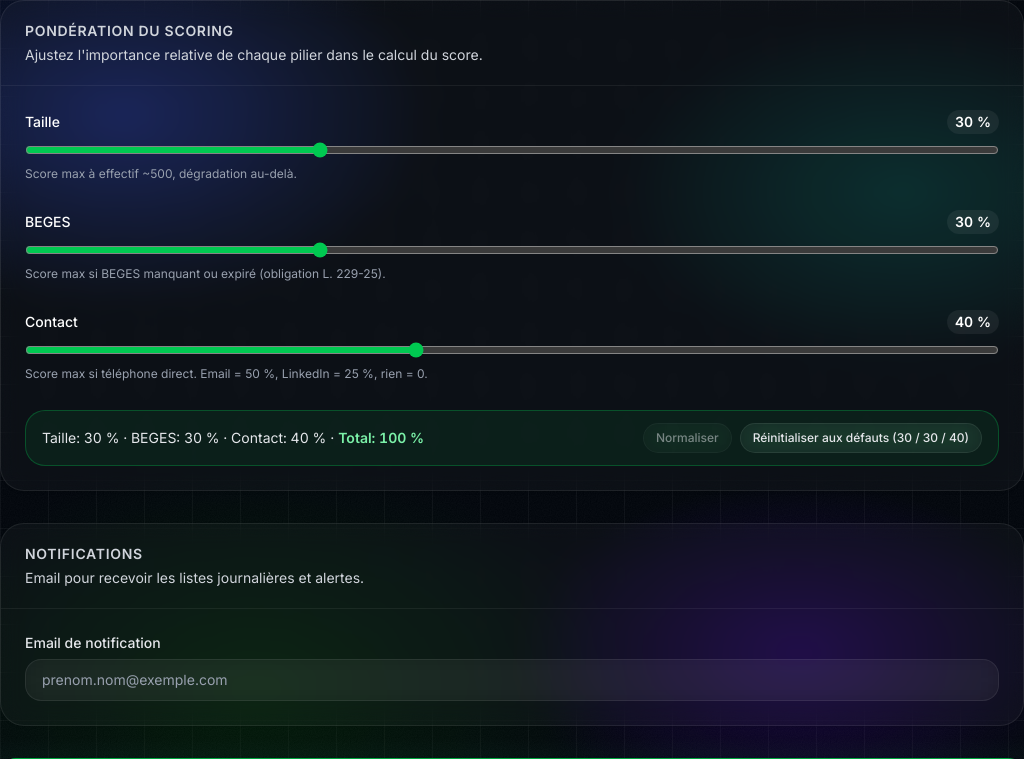
Test case: SettingsForm — pondération du scoring › le bouton "Réinitialiser" remet 30 / 30 / 40
Set the slider named "Pondération Taille" to "10" at (129, 150), box 25,142 -> 999,158
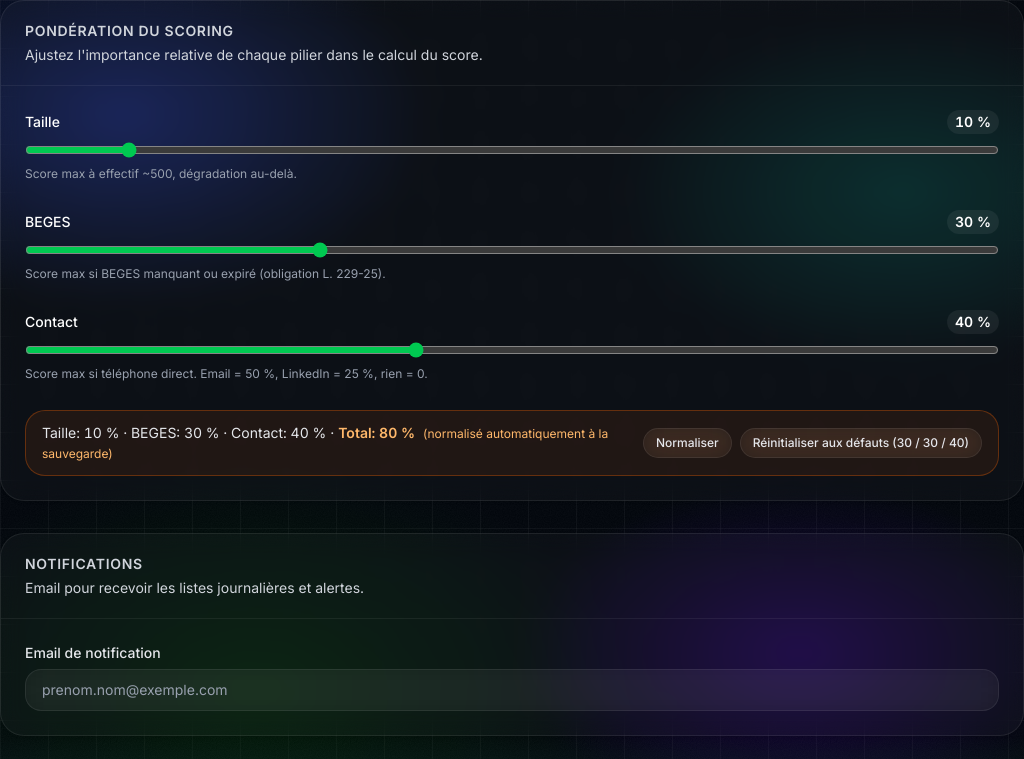
Set the slider named "Pondération BEGES" to "10" at (129, 250), box 25,242 -> 999,258
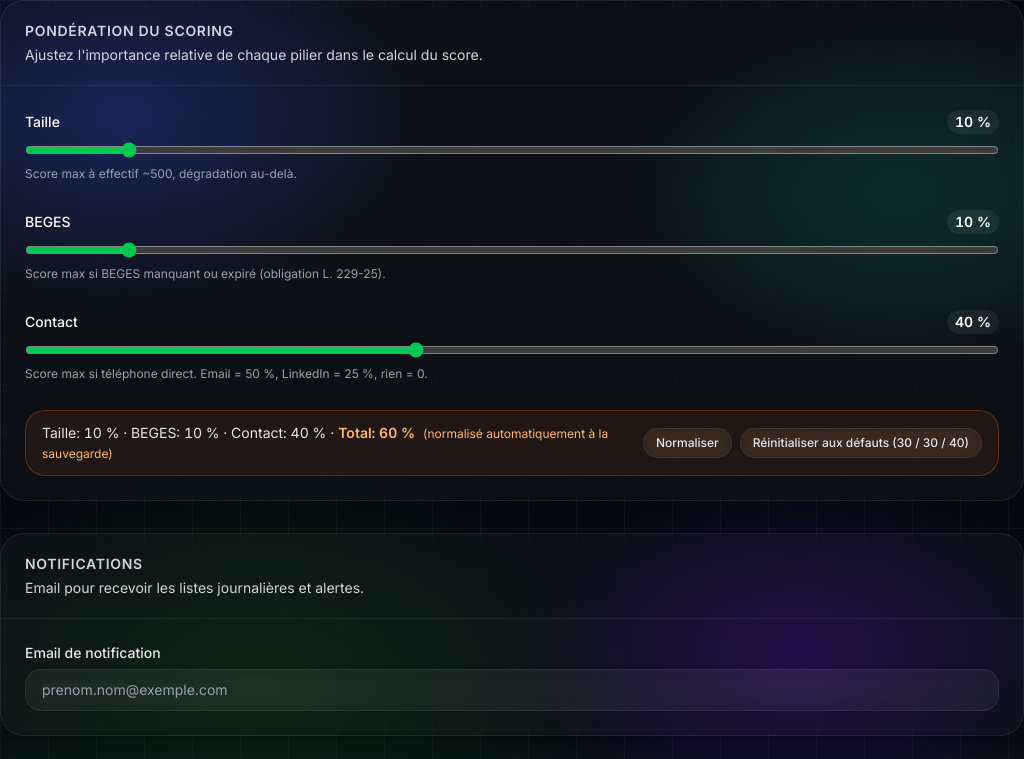
Set the slider named "Pondération Contact" to "10" at (129, 350), box 25,342 -> 999,358
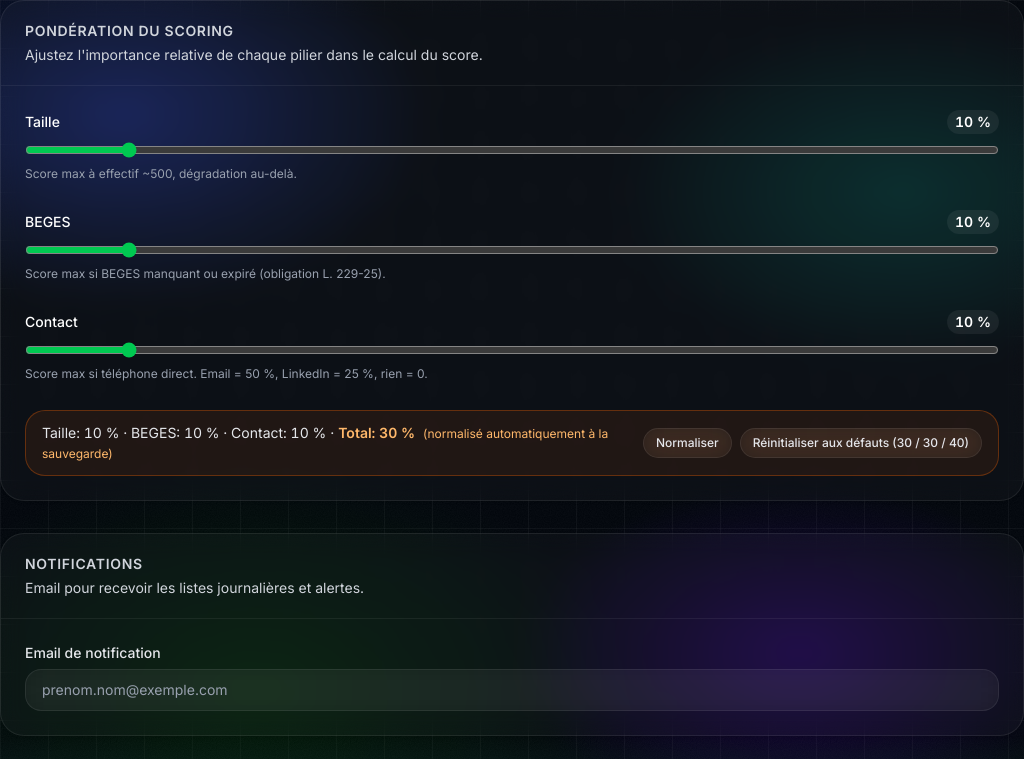
Click the button "Réinitialiser aux défauts (30 / 30 / 40)".
click(861, 443)  # box 740,428 -> 982,458
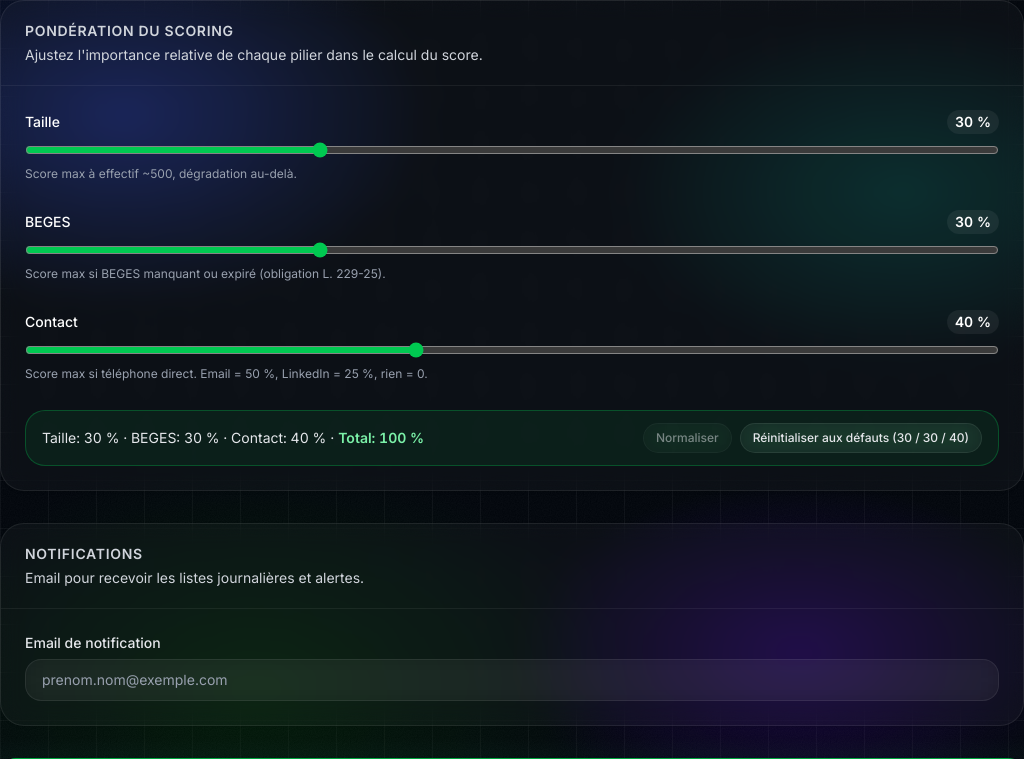
Result: the slider named "Pondération Taille" holds "30" at 25,142 -> 999,158
Result: the slider named "Pondération BEGES" holds "30" at 25,242 -> 999,258
Result: the slider named "Pondération Contact" holds "40" at 25,342 -> 999,358
